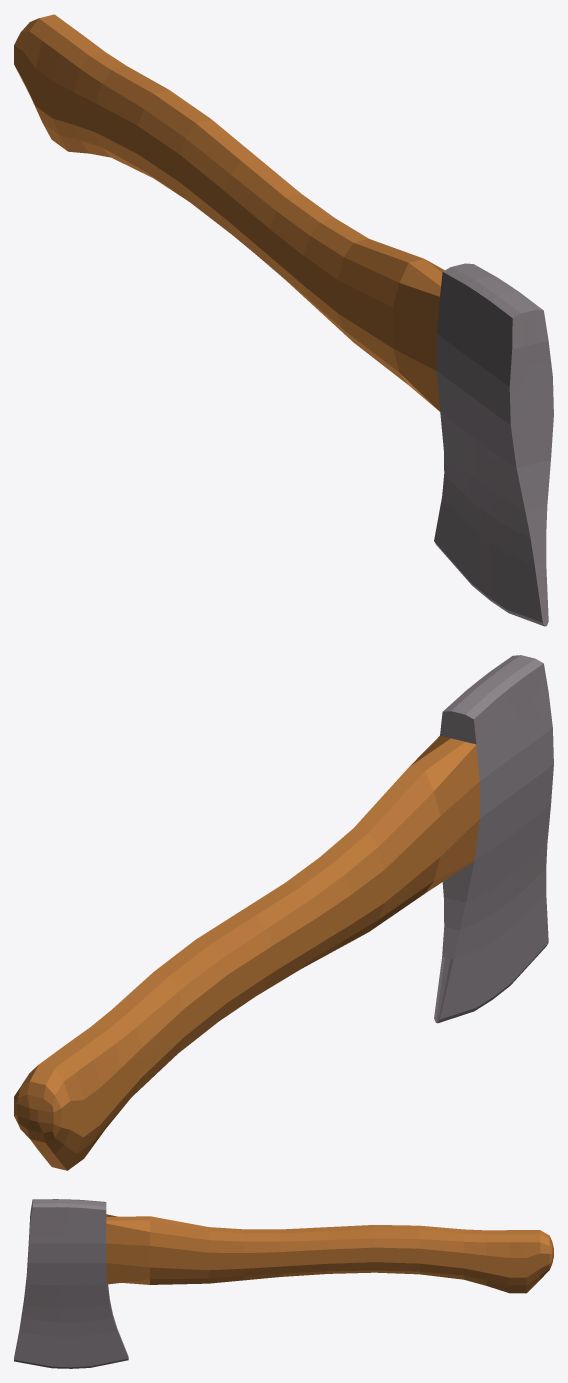
Rendered from Hatchet.fbx.
3 renders of one model, top to bottom at view 1: azimuth 30°, elevation 25°; view 2: azimuth 150°, elevation 25°; view 3: azimuth 270°, elevation 25°, orthographic. The views are drawn at different scales.
Visible parts, largest first — view 1: Hatchet; view 2: Hatchet; view 3: Hatchet.
Boxes of the visible parts, x1=… form: Hatchet: x1=14, y1=14, x2=553, y2=626; Hatchet: x1=14, y1=655, x2=553, y2=1170; Hatchet: x1=14, y1=1199, x2=553, y2=1368.
Bounding box in the file's own units: 0.0249 × 0.1586 × 0.4648.
